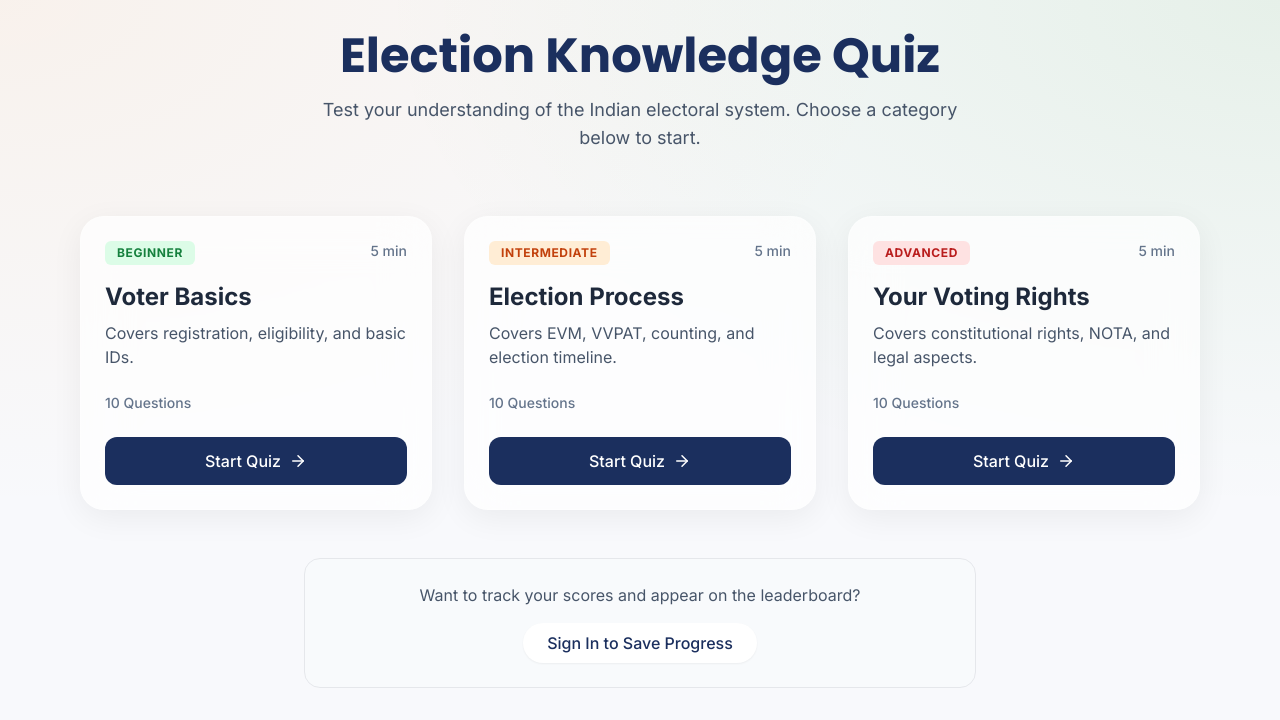
Test: Quiz Page › Active Quiz Screen › should show question counter when quiz starts
Click the button "Start Quiz" below "Voter Basics" at (256,461), box [105,437,407,485]
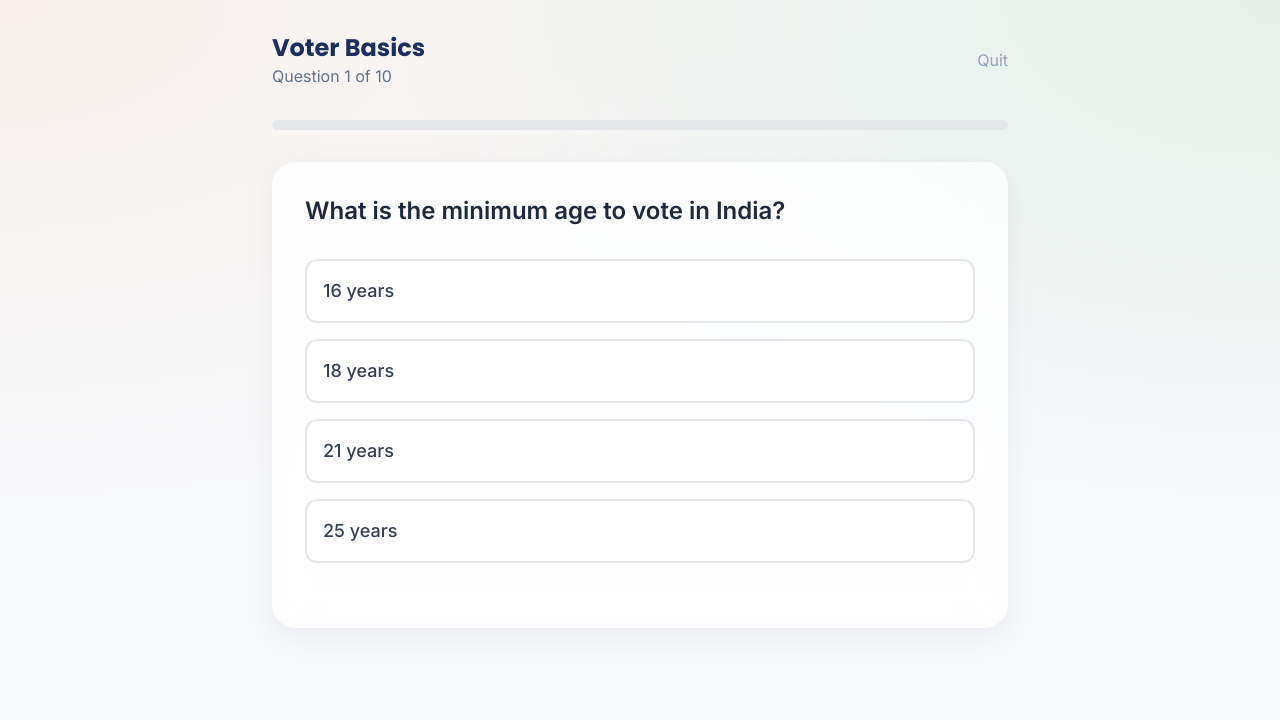
Result: the text "Question 1 of 10" is shown at [272,66,392,86]
